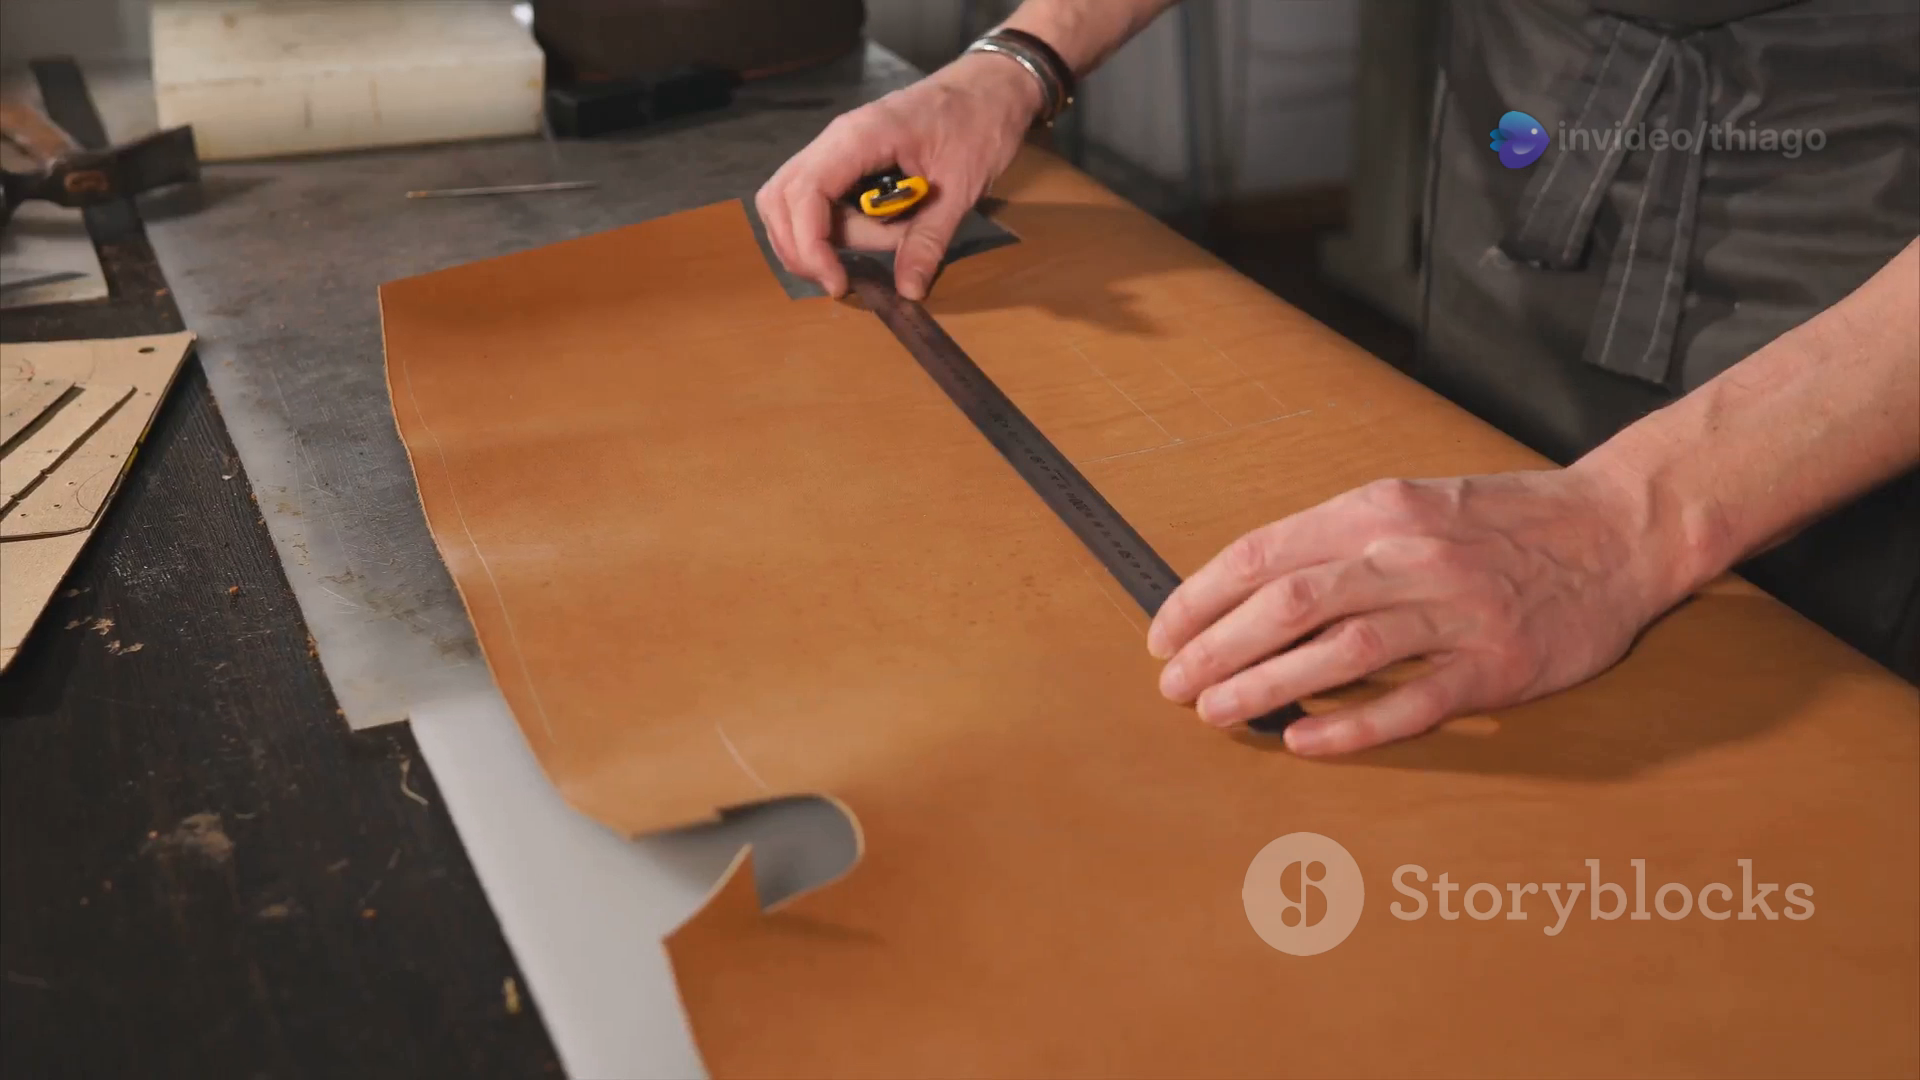cortante: (864, 183, 918, 211)
